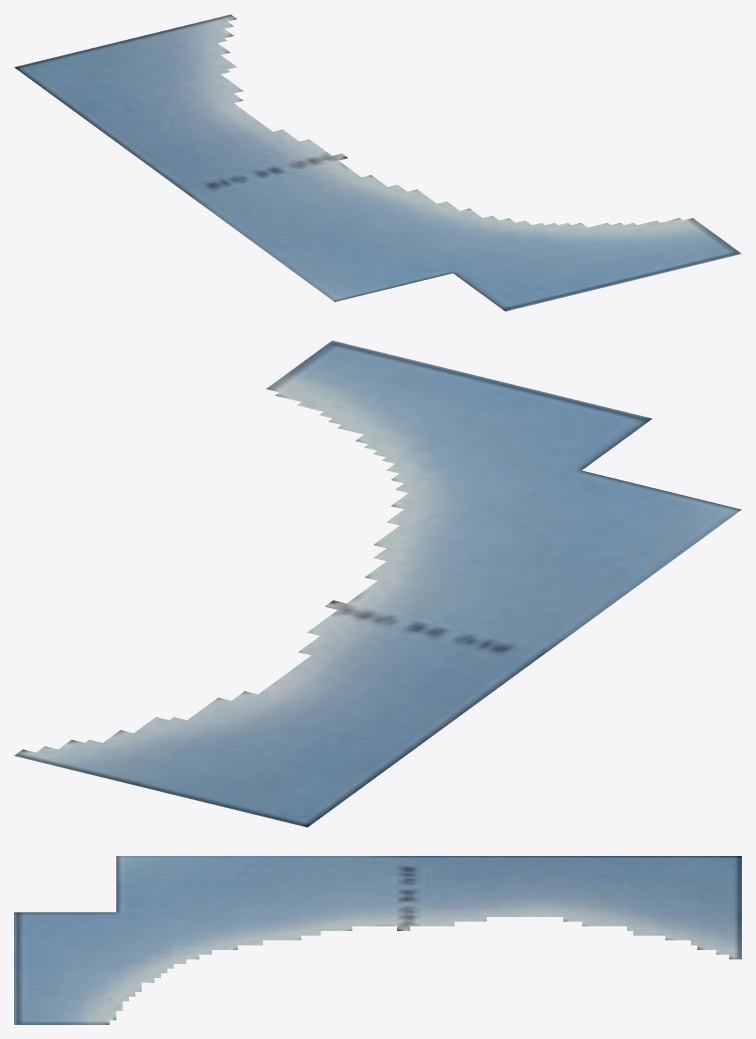
File: french-west-africa-sea.gltf
3 views of the same model, one above another, from view 1: azimuth 30°, elevation 25°; view 2: azimuth 150°, elevation 25°; view 3: azimuth 270°, elevation 25° (orthographic). The views are drawn at different scales.
Parts seen in each view (by area): view 1: Plane; view 2: Plane; view 3: Plane.
Boxes of the visible parts, box(x1,y1,x2,y2) form: Plane: box(14, 14, 741, 311); Plane: box(14, 340, 741, 827); Plane: box(14, 856, 741, 1024).
Size of the model in its own units: 0.3554 by 0 by 0.6474.
1 material, 1 textured.
